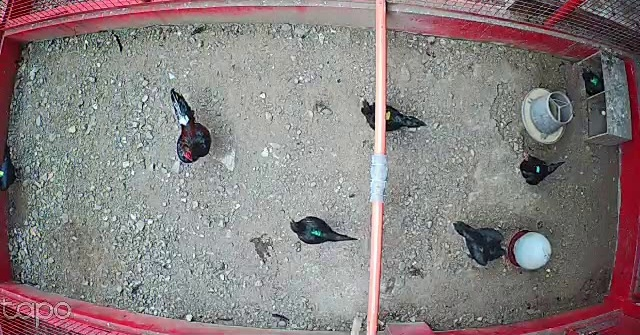Chicken: (449, 219, 513, 267), (360, 96, 428, 140), (287, 213, 359, 247), (517, 149, 564, 186), (0, 143, 22, 195)
Rooster: (164, 82, 217, 164)
Saddle_Color_Blue: (535, 166, 540, 173)
Saddle_Color_Yellow: (0, 170, 4, 176)
